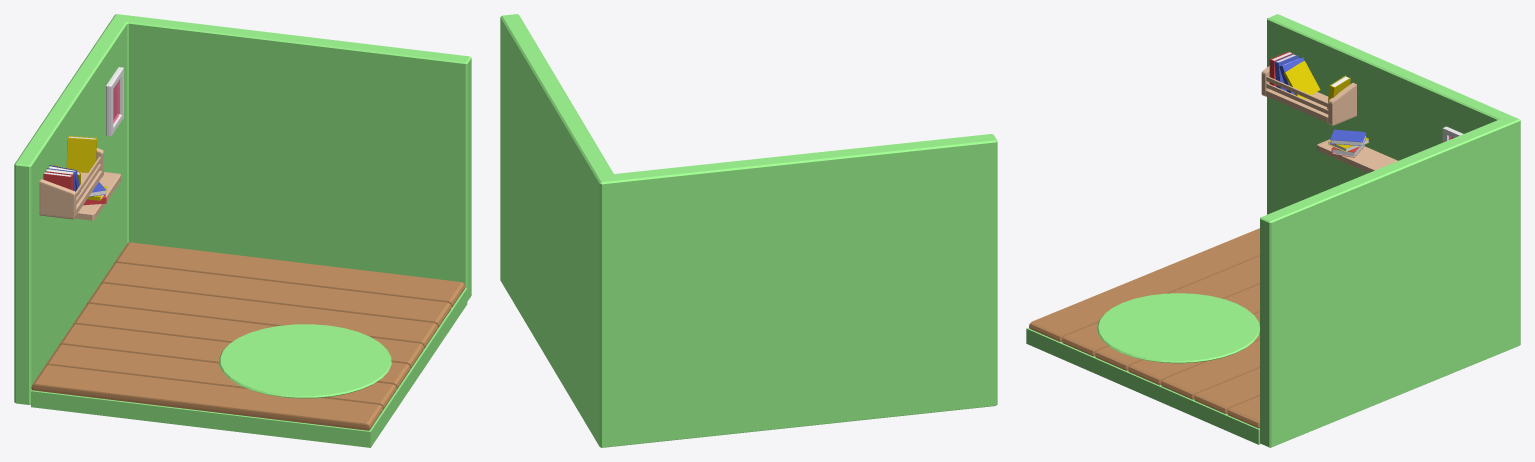
The model's file is walls.glb.
3 views of the same model, side by side, from view 1: azimuth 30°, elevation 25°; view 2: azimuth 150°, elevation 25°; view 3: azimuth 270°, elevation 25° (orthographic). The views are drawn at different scales.
Parts seen in each view (by area): view 1: newWall; view 2: newWall; view 3: newWall.
Part boxes in pixels (<box>): newWall: <box>14,14,471,447</box>; newWall: <box>500,14,997,447</box>; newWall: <box>1026,14,1520,447</box>.
Size of the model in its own units: 4.35 by 2.22 by 4.37.
